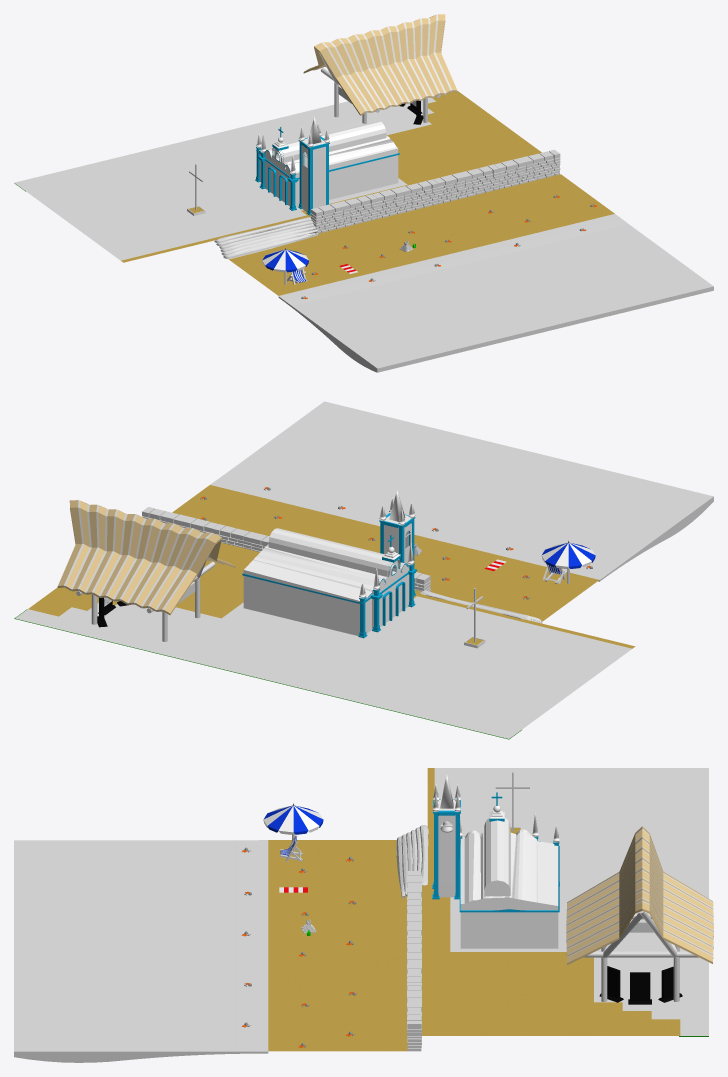
Rendered from beach_FULL1.0.fbx.
3 views of the same model, one above another, from view 1: azimuth 30°, elevation 25°; view 2: azimuth 150°, elevation 25°; view 3: azimuth 270°, elevation 25° (orthographic). The views are drawn at different scales.
Parts seen in each view (by area): view 1: Plane.005, Mar, Mar.001, Plane.006, Plane.007, Plane.003, Plane.002, Cube.059, areia.001, areia, Stairs, Wall (+6 smaller); view 2: Plane.005, Mar, Mar.001, Plane.006, Plane.007, Cube.059, Plane.002, Plane.003, Cylinder.001, areia.001, areia, Cone (+5 smaller); view 3: Plane.006, Mar.001, Mar, Plane.005, Plane.003, Plane.002, Plane.007, Cube.059, areia.001, areia, Cylinder.001, Stairs (+11 smaller).
Part boxes in pixels (x1,y1,x2,y2): Plane.005: [14, 137, 308, 262]; Mar: [278, 265, 545, 372]; Mar.001: [461, 224, 713, 331]; Plane.006: [200, 91, 541, 216]; Plane.007: [303, 14, 457, 115]; Plane.003: [393, 174, 614, 254]; Plane.002: [229, 215, 446, 295]; Cube.059: [259, 122, 399, 207]; areia.001: [447, 214, 627, 264]; areia: [279, 255, 459, 305]; Stairs: [214, 217, 318, 259]; Wall: [310, 194, 377, 233]; Plane.005: [294, 594, 635, 738]; Mar: [420, 449, 713, 581]; Mar.001: [226, 401, 518, 520]; Plane.006: [15, 542, 420, 686]; Plane.007: [57, 500, 235, 614]; Cube.059: [242, 544, 409, 635]; Plane.002: [377, 535, 598, 621]; Plane.003: [172, 485, 380, 552]; Cylinder.001: [268, 528, 400, 578]; areia.001: [210, 473, 419, 526]; areia: [414, 521, 614, 579]; Cone: [541, 542, 595, 568]; Plane.006: [421, 885, 708, 1035]; Mar.001: [14, 946, 268, 1062]; Mar: [14, 840, 233, 945]; Plane.005: [427, 768, 708, 884]; Plane.003: [268, 946, 407, 1051]; Plane.002: [268, 840, 406, 945]; Plane.007: [566, 826, 713, 965]; Cube.059: [459, 829, 559, 948]; areia.001: [233, 945, 268, 1051]; areia: [233, 840, 268, 945]; Cylinder.001: [484, 817, 510, 896]; Stairs: [396, 825, 428, 897].
Size of the model in its own units: 4234 by 1054 by 4642.
